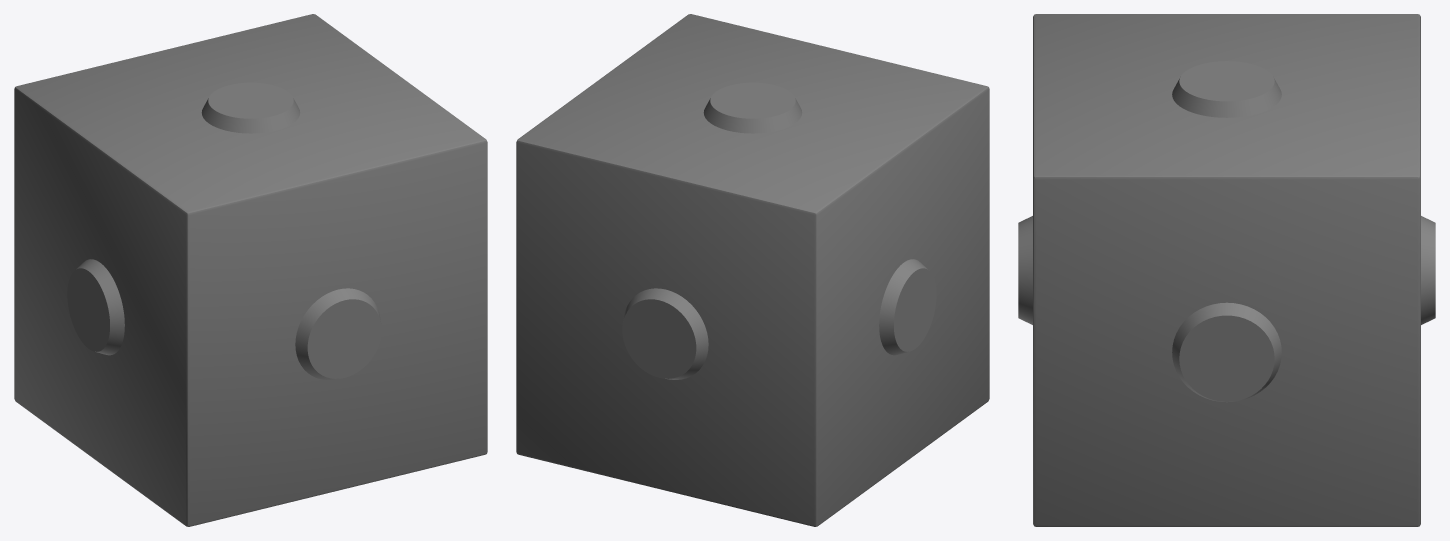
File: q-scifi-mod-prop-crate4.glb
3 renders of one model, left to right at view 1: azimuth 30°, elevation 25°; view 2: azimuth 150°, elevation 25°; view 3: azimuth 270°, elevation 25°, orthographic. The views are drawn at different scales.
Visible parts, largest first — view 1: Prop_Crate4; view 2: Prop_Crate4; view 3: Prop_Crate4.
Part boxes in pixels (x1=…): Prop_Crate4: x1=14, y1=14, x2=487, y2=526; Prop_Crate4: x1=516, y1=14, x2=989, y2=526; Prop_Crate4: x1=1018, y1=14, x2=1435, y2=526.
Bounding box in the file's own units: 1.12 × 1.12 × 1.12.
1 material, 1 textured.
